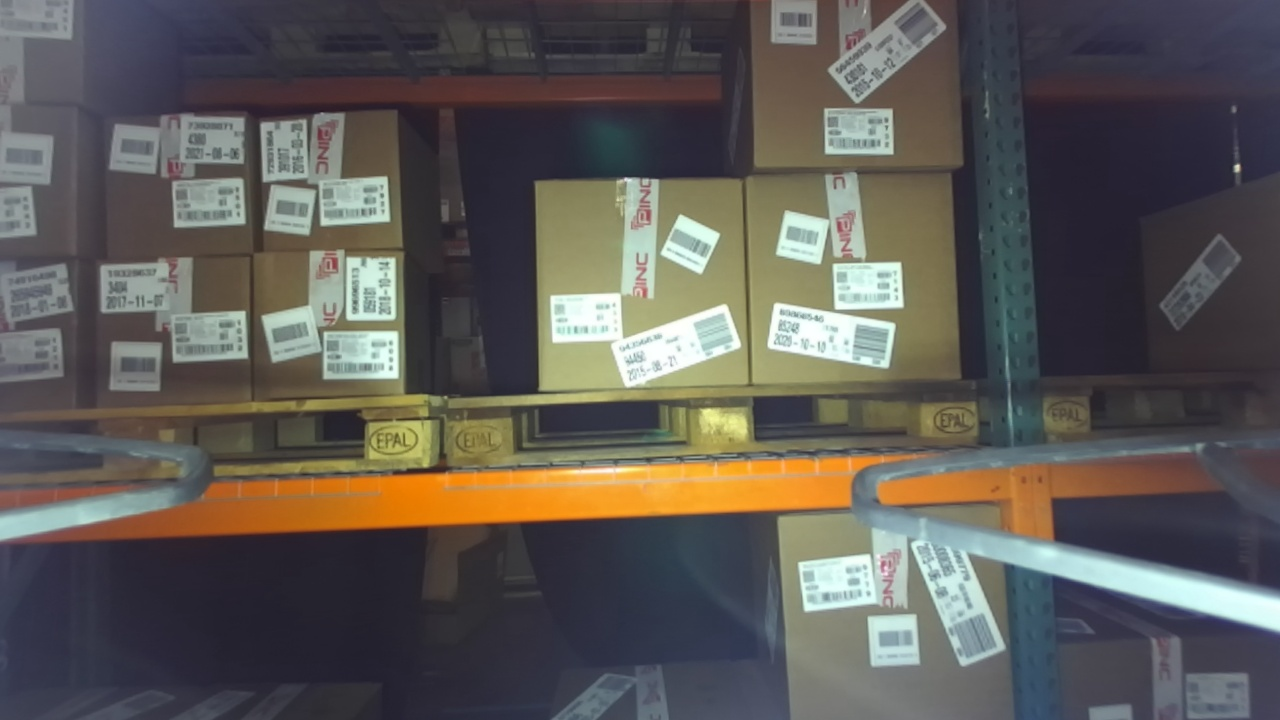box: (714, 152, 976, 408), (754, 493, 1047, 720), (513, 157, 775, 396), (727, 1, 975, 183), (82, 96, 278, 281), (72, 232, 272, 412), (250, 87, 428, 271), (240, 242, 429, 406)
